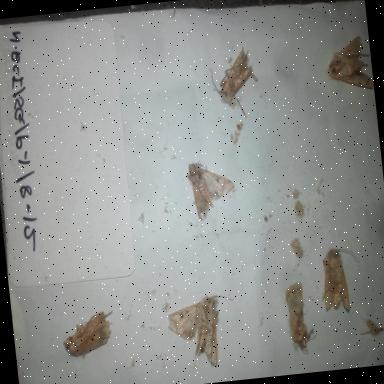abw: (162, 287, 242, 375), (203, 40, 266, 125), (184, 152, 242, 226), (58, 301, 120, 368), (316, 241, 369, 318), (321, 26, 375, 98), (279, 278, 323, 360)
